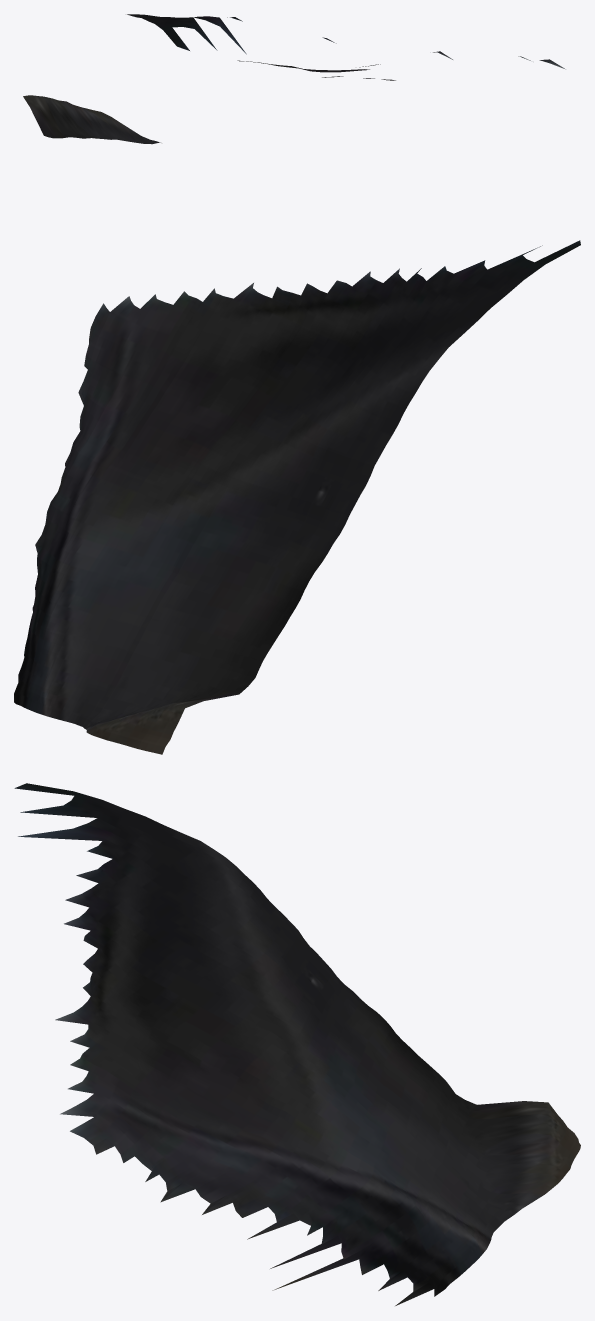
File: observed-surface.glb
3 views of the same model, one above another, from view 1: azimuth 30°, elevation 25°; view 2: azimuth 150°, elevation 25°; view 3: azimuth 270°, elevation 25° (orthographic). The views are drawn at different scales.
Parts seen in each view (by area): view 1: geometry_0; view 2: geometry_0; view 3: geometry_0.
Boxes of the visible parts, left/top/right/bottom form: geometry_0: left=23, top=14, right=565, bottom=144; geometry_0: left=14, top=240, right=580, bottom=754; geometry_0: left=14, top=783, right=580, bottom=1305.
Size of the model in its own units: 0.5552 by 0.4548 by 0.6442.
1 material, 1 textured.
